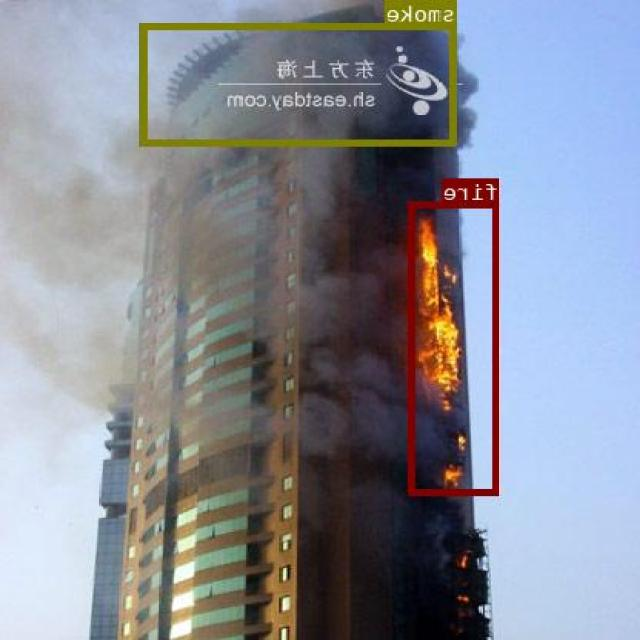fire: (409, 200, 502, 494)
smoke: (142, 22, 458, 144)
